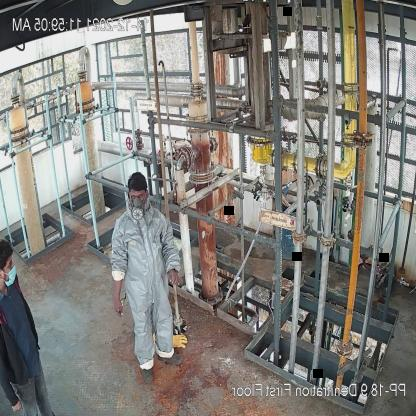mask: (128, 198, 146, 221)
no_glove: (112, 279, 123, 319), (168, 267, 182, 289)
no_goggles: (129, 191, 145, 200)
